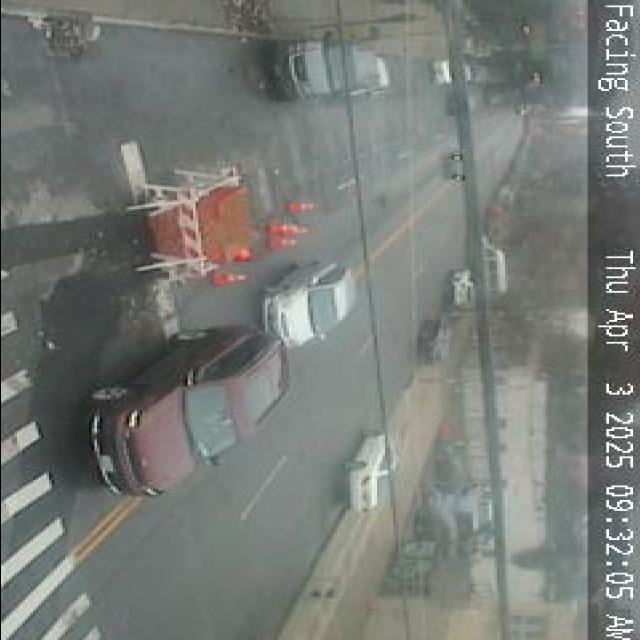open parking: (371, 351, 420, 444), (385, 45, 437, 95), (430, 302, 471, 326)
parkedCars: (251, 12, 397, 110), (335, 424, 431, 520), (418, 320, 451, 370), (449, 268, 479, 308)
